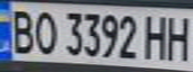2: (115, 11, 142, 61)
3: (78, 9, 103, 57), (60, 8, 84, 56)
9: (100, 10, 121, 60)
B: (3, 6, 39, 55)
H: (139, 11, 172, 61), (163, 12, 193, 62)
O: (30, 7, 60, 56)
